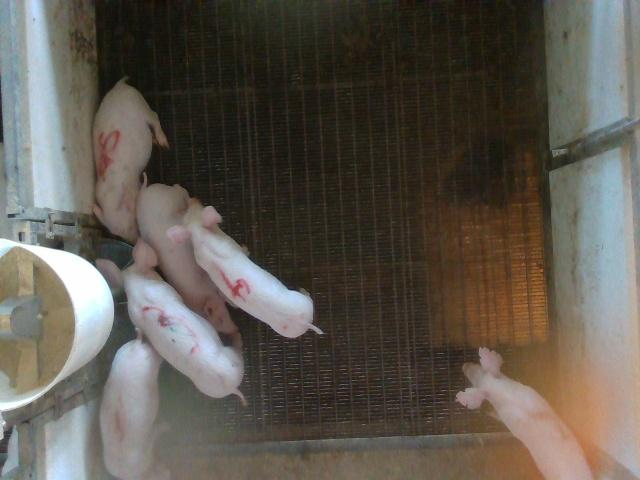pig-1: (99, 331, 161, 479)
pig-2: (456, 348, 592, 479)
pig-3: (95, 238, 244, 399)
pig-4: (169, 199, 322, 337)
pig-5: (92, 78, 169, 242)
